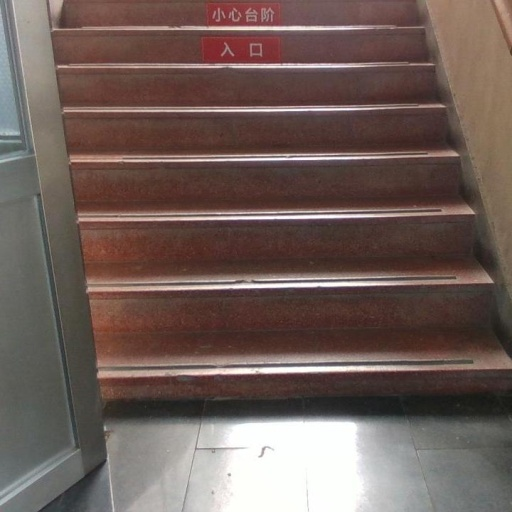Stairs: (53, 0, 512, 398)
